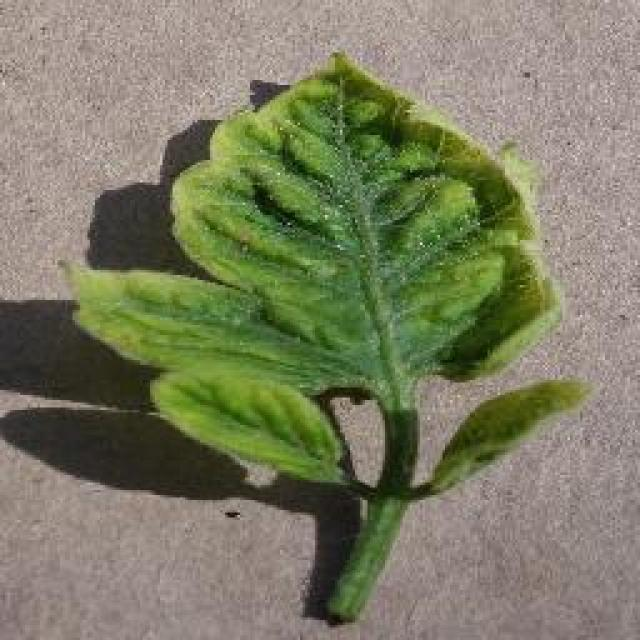Tomato yellow virus leaf: (69, 58, 569, 388), (146, 362, 356, 492), (432, 372, 596, 492)
